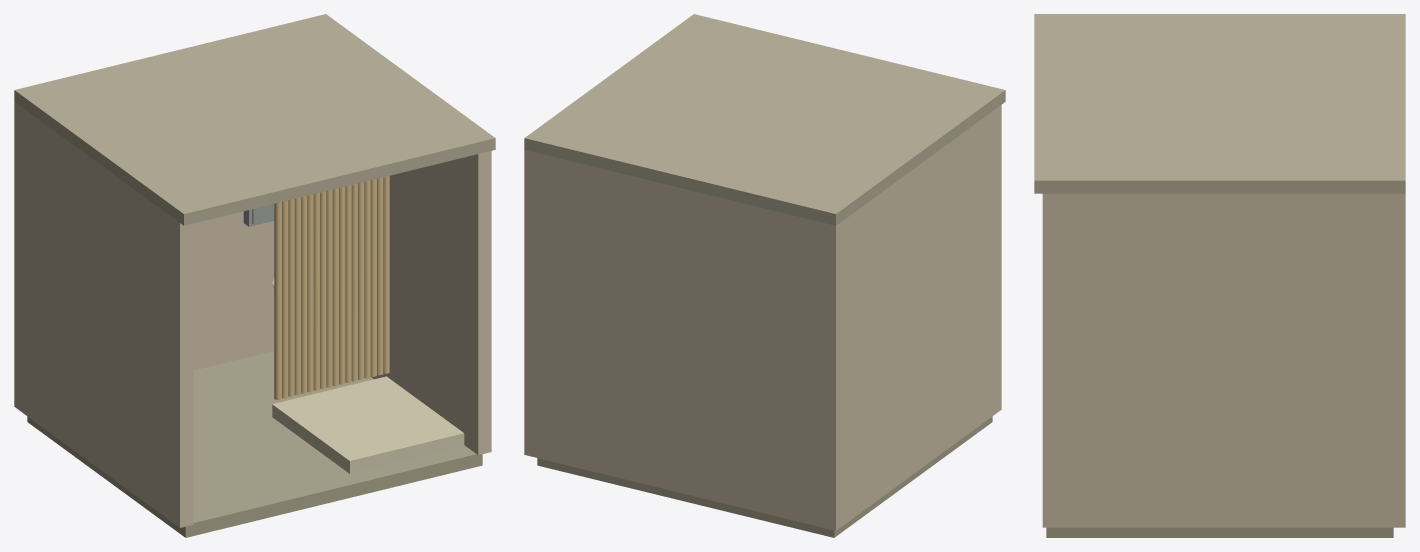
The model's file is SM_Town_Motel_Bathroom.fbx.
The picture shows the model from 3 angles, left to right: view 1: azimuth 30°, elevation 25°; view 2: azimuth 150°, elevation 25°; view 3: azimuth 270°, elevation 25°; orthographic projection. The views are drawn at different scales.
Visible parts, largest first — view 1: SM_Town_Motel_Bathroom; view 2: SM_Town_Motel_Bathroom; view 3: SM_Town_Motel_Bathroom.
Boxes of the visible parts, x1,y1,x2,y2 form: SM_Town_Motel_Bathroom: (14, 14, 495, 537); SM_Town_Motel_Bathroom: (524, 14, 1005, 537); SM_Town_Motel_Bathroom: (1034, 14, 1405, 537).
Size of the model in its own units: 2.78 by 2.62 by 2.81.
